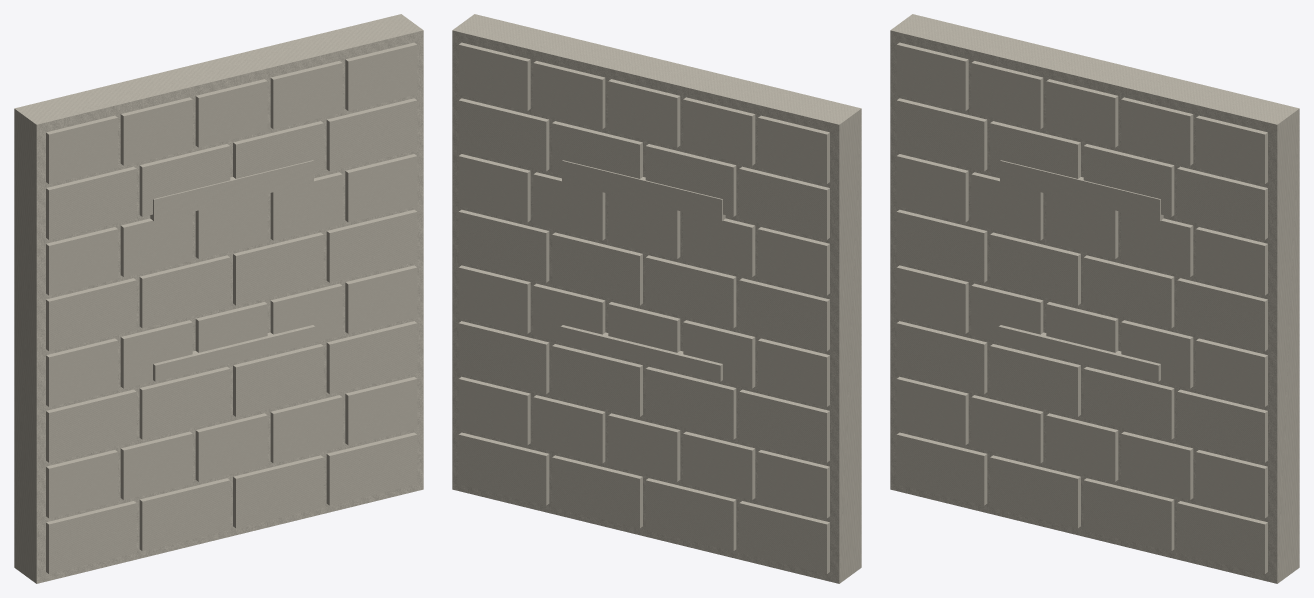
File: pirate-port-and-tall-ships-warehouse-wall-section-b2fcafbb__30139.glb
3 renders of one model, left to right at view 1: azimuth 30°, elevation 25°; view 2: azimuth 150°, elevation 25°; view 3: azimuth 330°, elevation 25°, orthographic.
Visible parts, largest first — view 1: warehouse-wall-section; view 2: warehouse-wall-section; view 3: warehouse-wall-section.
Part boxes in pixels (x1,y1,x2,y2): warehouse-wall-section: [14, 14, 423, 583]; warehouse-wall-section: [452, 14, 861, 583]; warehouse-wall-section: [890, 14, 1299, 583].
Bounding box in the file's own units: 3 × 3.4 × 0.44.
2 materials, 1 textured.
